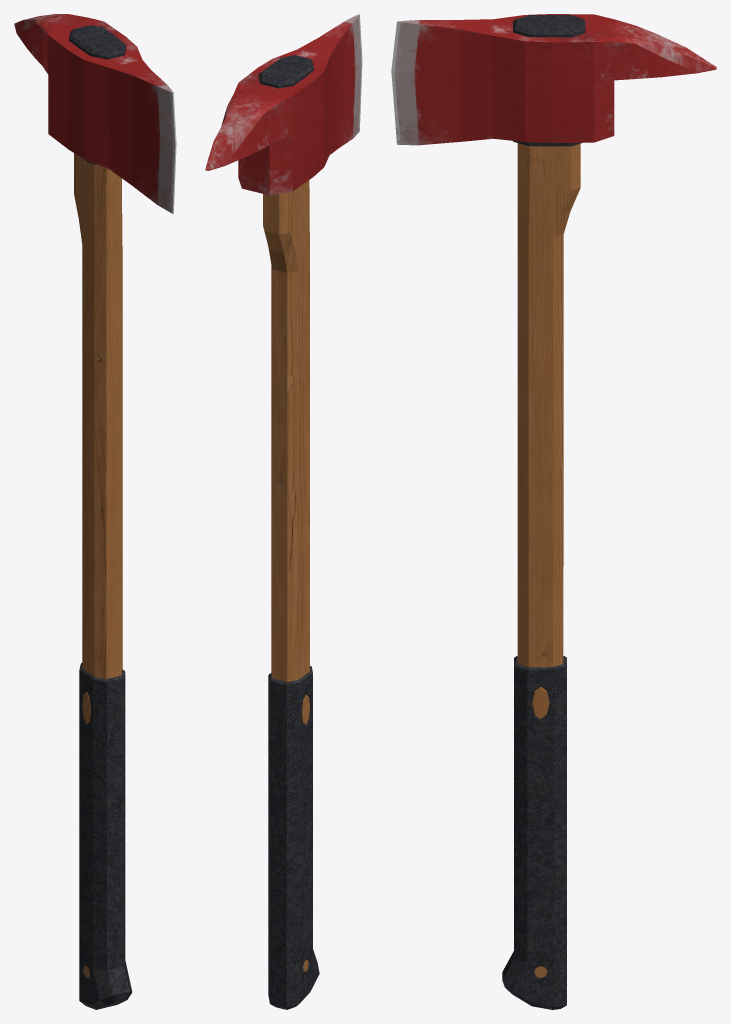
Rendered from 무기_소방도끼.fbx.
3 renders of one model, left to right at view 1: azimuth 30°, elevation 25°; view 2: azimuth 150°, elevation 25°; view 3: azimuth 270°, elevation 25°, orthographic. The views are drawn at different scales.
Visible parts, largest first — view 1: 소방도끼; view 2: 소방도끼; view 3: 소방도끼.
Boxes of the visible parts, x1,y1,x2,y2 form: 소방도끼: (14,14,176,1009); 소방도끼: (205,14,362,1009); 소방도끼: (391,14,716,1009).
Size of the model in its own units: 5.61 by 90.59 by 27.12.
